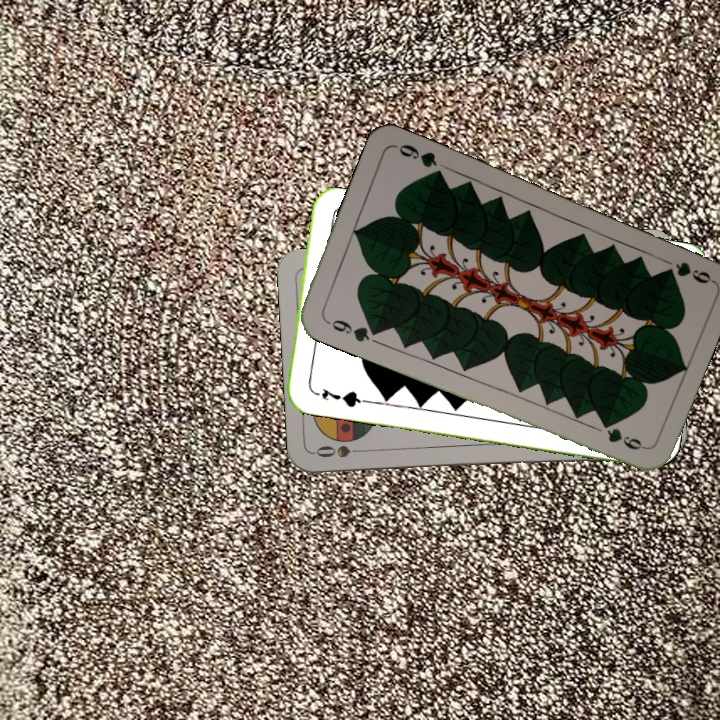G7: (317, 385, 367, 410)
G9: (321, 315, 381, 345), (671, 258, 714, 286)
SO: (312, 441, 371, 461)
